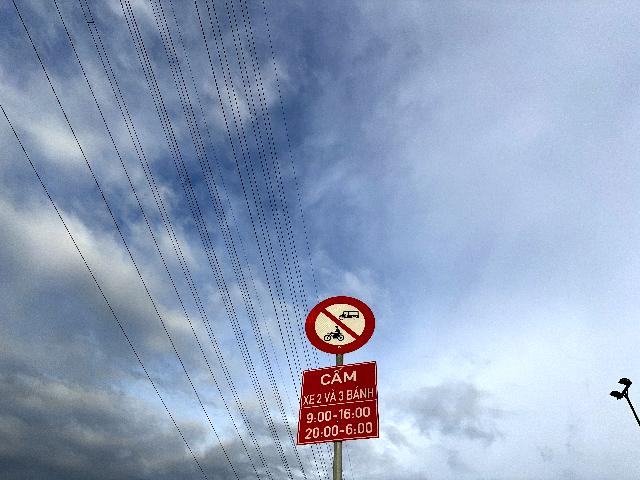cam-xe-2-banh-3-banh: (304, 296, 376, 354)
